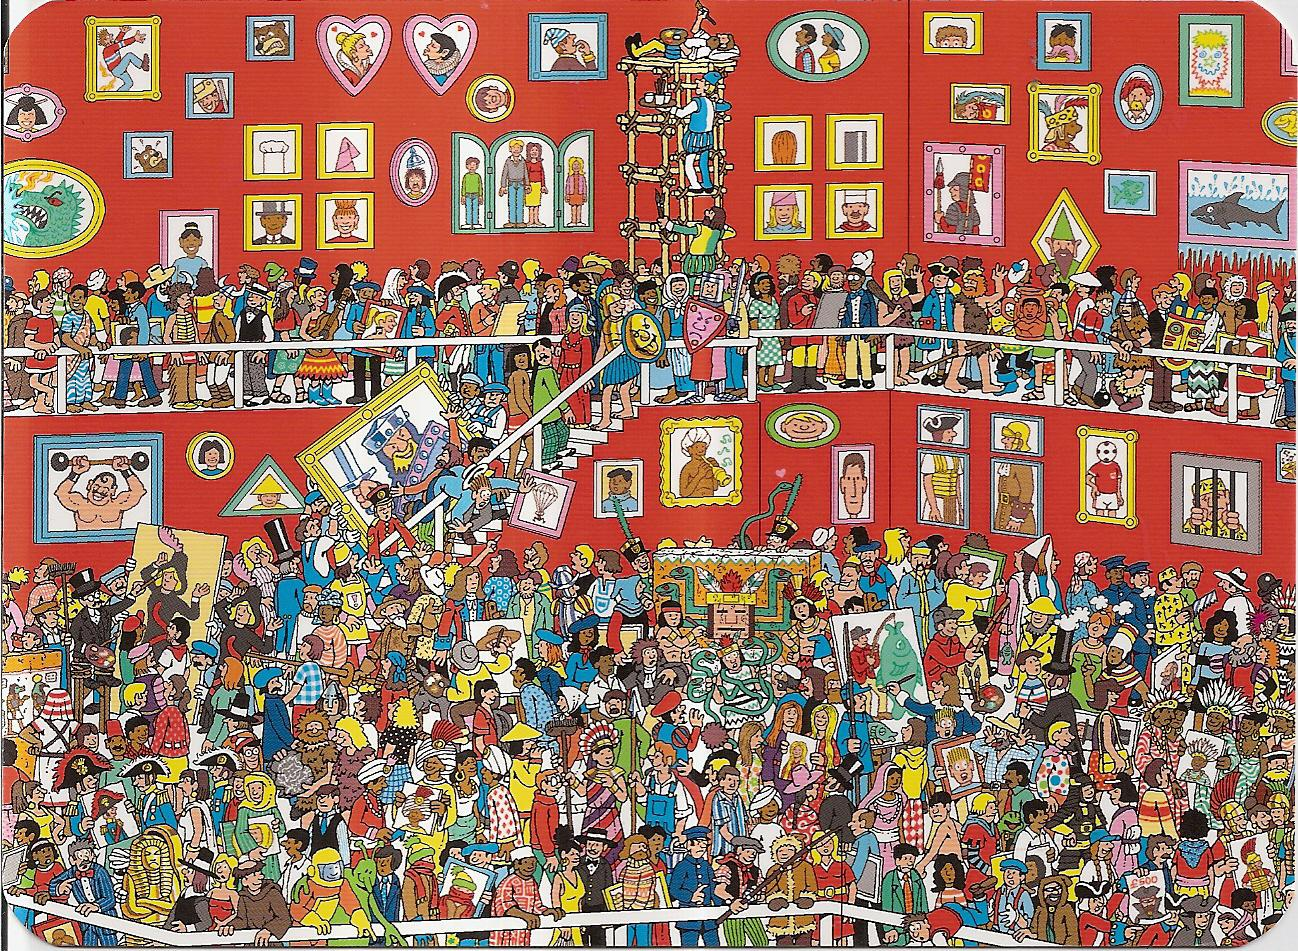waldo: (231, 735, 261, 769)
